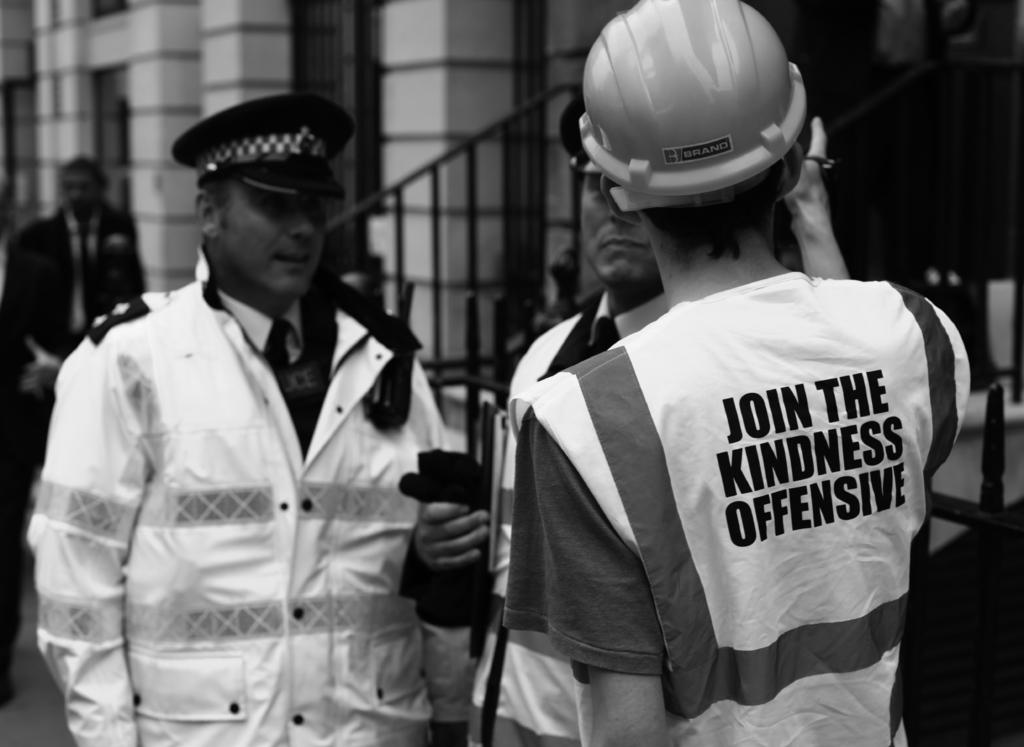Hat: (168, 95, 362, 203), (556, 98, 602, 174)
